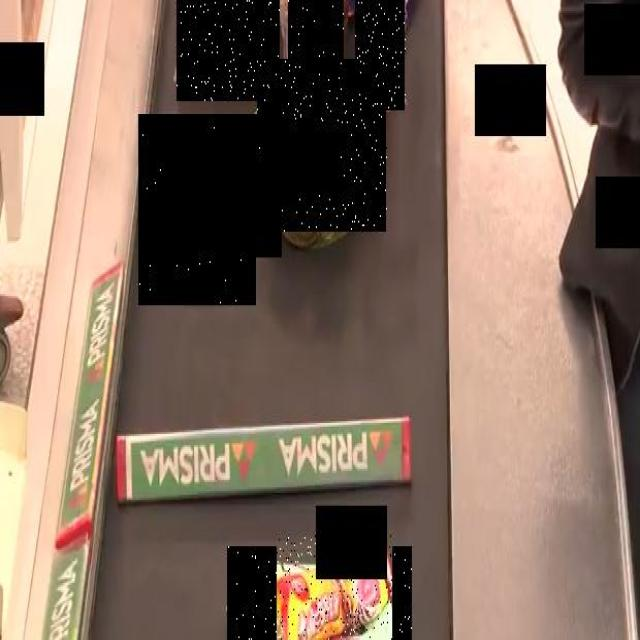food-box: (228, 546, 412, 640), (276, 533, 392, 640), (176, 0, 280, 101), (355, 0, 405, 110), (288, 0, 344, 83)
fruit: (258, 59, 388, 232)
utility-box: (139, 114, 257, 305)
